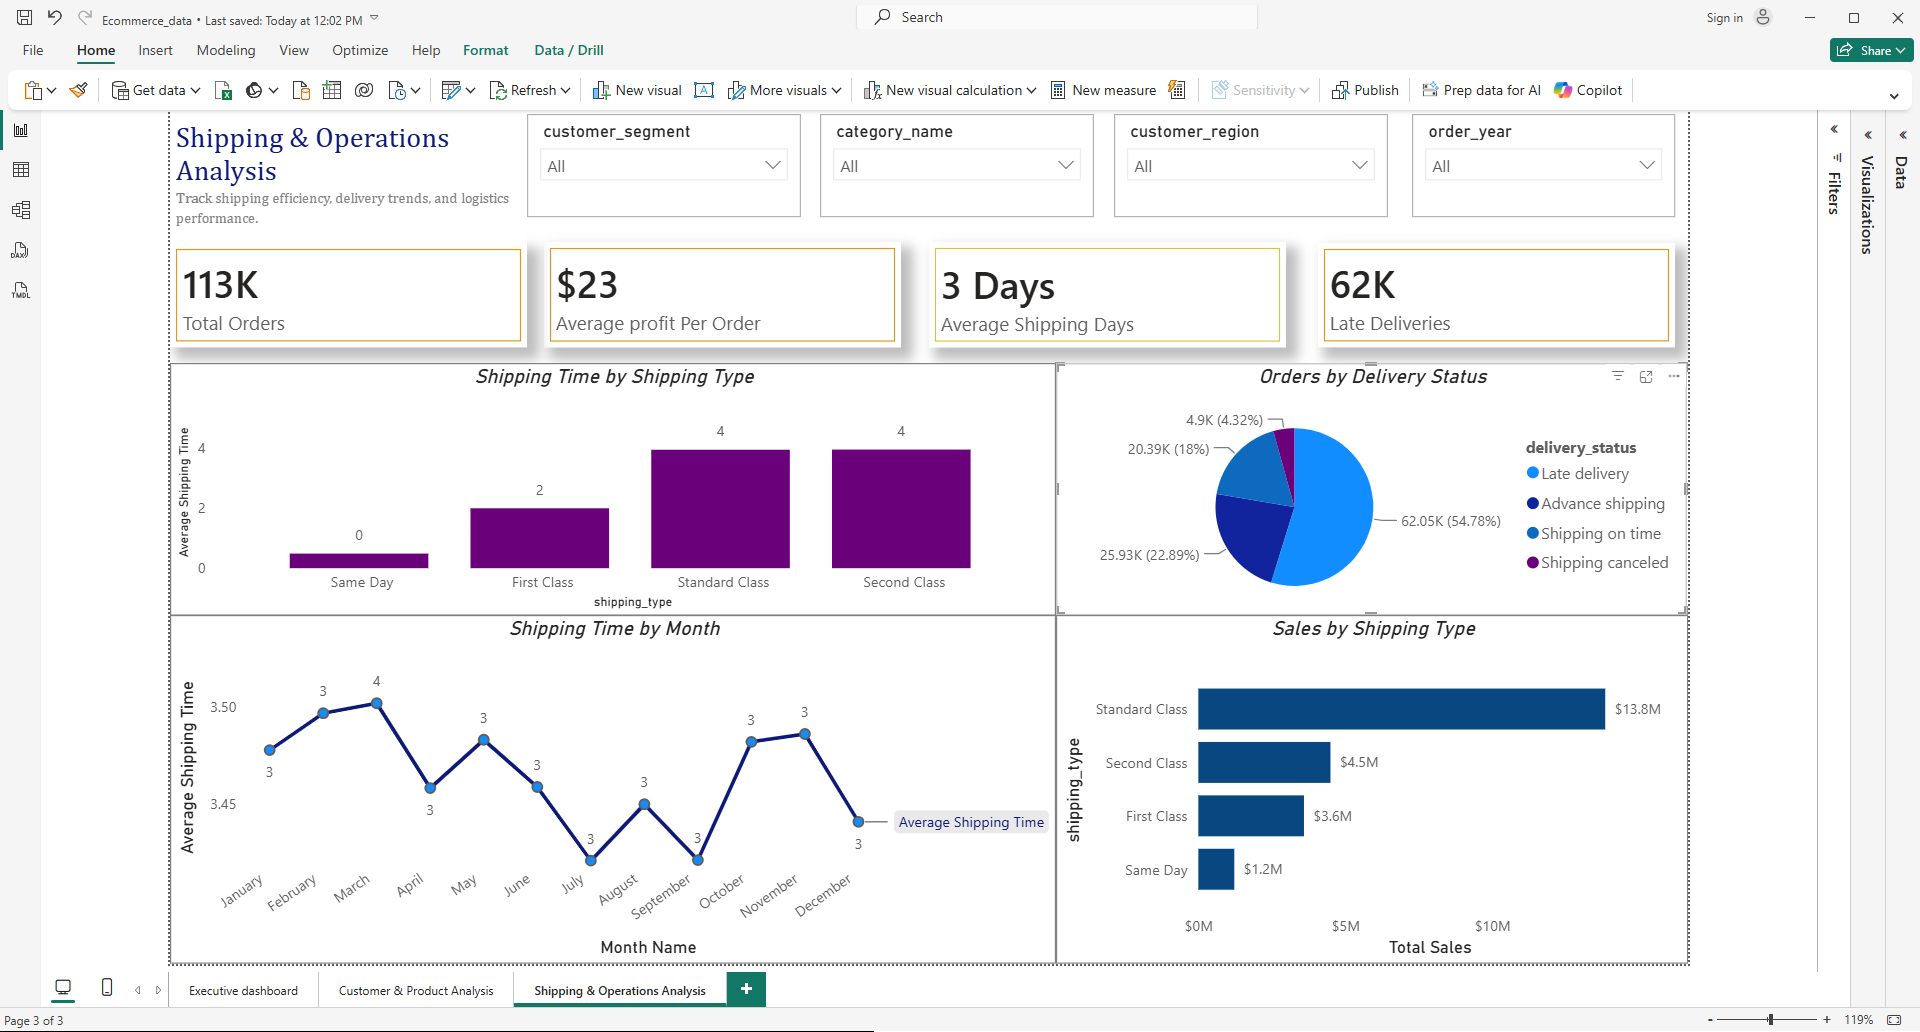

What the dashboard file says about the page in this screenshot:
{"tool":"powerbi","page":{"name":"Shipping & Operations Analysis","canvas":[1280,720],"ordinal":2},"visuals":[{"type":"cardVisual","fields":{"Data":["Ecommerce_data.Late Deliveries"]},"box":[1025.6,26.7,233.2,88.3],"z":0},{"type":"cardVisual","fields":{"Data":["Ecommerce_data.Average profit"]},"box":[801.3,26.7,224.4,89.2],"z":1000},{"type":"cardVisual","fields":{"Data":["Ecommerce_data.Average Shipping Time"]},"box":[581.3,26.7,220,89.2],"z":2000},{"type":"cardVisual","fields":{"Data":["Ecommerce_data.Total Orders"]},"box":[350.2,26.7,231.4,89.2],"z":3000},{"type":"textbox","box":[0,2.6,315.7,125.1],"z":4000},{"type":"pieChart","title":" Orders by Delivery Status","fields":{"Category":["Ecommerce_data.delivery_status"],"Y":["CountNonNull(Ecommerce_data.order_id)"]},"box":[747,127.7,533,298.4],"z":5000},{"type":"clusteredBarChart","title":"Sales by Shipping Type","fields":{"Category":["Ecommerce_data.shipping_type"],"Y":["Ecommerce_data.Total Sales"]},"box":[747,426.1,533,294.1],"z":6000},{"type":"lineStackedColumnComboChart","title":"Shipping Time by Shipping Type","fields":{"Y":["Ecommerce_data.Average Shipping Time"],"Category":["Ecommerce_data.shipping_type"]},"box":[315.7,127.7,431.3,298.4],"z":7000},{"type":"lineChart","title":"Shipping Time by Month","fields":{"Category":["Calender.Month Name"],"Y":["Ecommerce_data.Average Shipping Time"]},"box":[0,426.1,747,294.1],"z":8000},{"type":"slicer","fields":{"Values":["Ecommerce_data.customer_segment"]},"box":[0,127.7,163.9,145.8],"z":9000},{"type":"slicer","fields":{"Values":["Ecommerce_data.customer_region"]},"box":[0,273.4,163.9,152.7],"z":10000},{"type":"slicer","fields":{"Values":["Ecommerce_data.category_name"]},"box":[163.9,127.7,151.8,145.8],"z":11000},{"type":"slicer","fields":{"Values":["Ecommerce_data.order_year"]},"box":[163.9,273.4,151.8,152.7],"z":12000}]}

Visuals, with their boxes on the page's 1280x720 design canvas (x1, y1, x2, y2). These are canvas units, not pixel positions in the 1920x1032 screenshot, which may show the page scaled, cropped or inside an application window:
cardVisual - Ecommerce_data.Late Deliveries: {"left": 1026, "top": 27, "right": 1259, "bottom": 115}
cardVisual - Ecommerce_data.Average profit: {"left": 801, "top": 27, "right": 1026, "bottom": 116}
cardVisual - Ecommerce_data.Average Shipping Time: {"left": 581, "top": 27, "right": 801, "bottom": 116}
cardVisual - Ecommerce_data.Total Orders: {"left": 350, "top": 27, "right": 582, "bottom": 116}
textbox: {"left": 0, "top": 3, "right": 316, "bottom": 128}
" Orders by Delivery Status" pieChart: {"left": 747, "top": 128, "right": 1280, "bottom": 426}
"Sales by Shipping Type" clusteredBarChart: {"left": 747, "top": 426, "right": 1280, "bottom": 720}
"Shipping Time by Shipping Type" lineStackedColumnComboChart: {"left": 316, "top": 128, "right": 747, "bottom": 426}
"Shipping Time by Month" lineChart: {"left": 0, "top": 426, "right": 747, "bottom": 720}
slicer - Ecommerce_data.customer_segment: {"left": 0, "top": 128, "right": 164, "bottom": 274}
slicer - Ecommerce_data.customer_region: {"left": 0, "top": 273, "right": 164, "bottom": 426}
slicer - Ecommerce_data.category_name: {"left": 164, "top": 128, "right": 316, "bottom": 274}
slicer - Ecommerce_data.order_year: {"left": 164, "top": 273, "right": 316, "bottom": 426}
